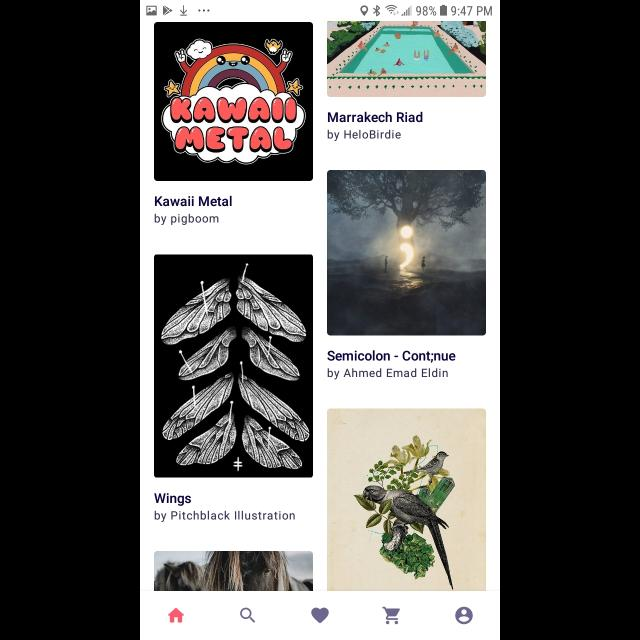icon: (382, 606, 400, 624), (455, 606, 473, 624), (311, 607, 329, 623), (240, 607, 256, 623), (168, 608, 185, 622)
image: (154, 255, 314, 478), (326, 409, 486, 591), (328, 170, 487, 336), (154, 22, 314, 182), (326, 22, 486, 98), (154, 551, 314, 591)
text: (154, 510, 296, 522), (328, 351, 457, 364), (327, 368, 447, 380), (328, 111, 422, 122), (155, 196, 233, 208), (327, 129, 401, 141), (155, 214, 219, 226), (156, 493, 192, 507)
uppertaskbar: (140, 1, 500, 18)
